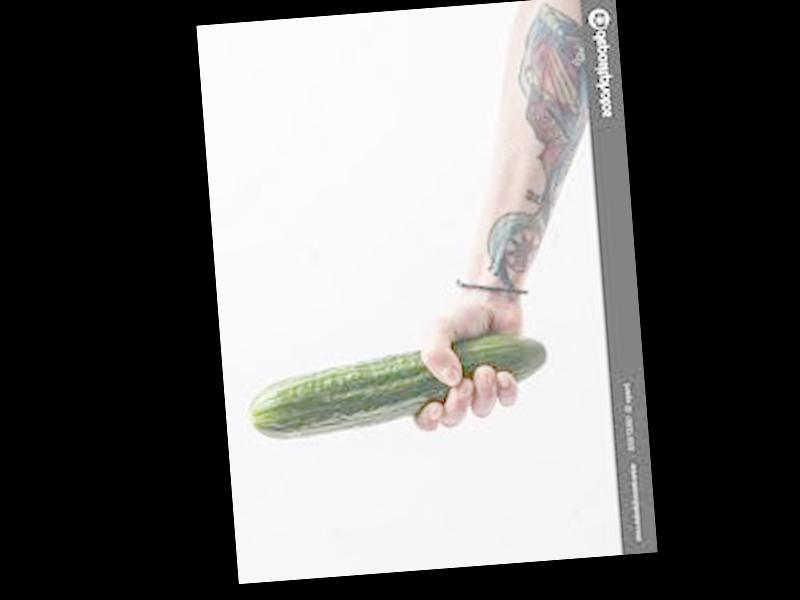Cucumber: (241, 332, 549, 442)
